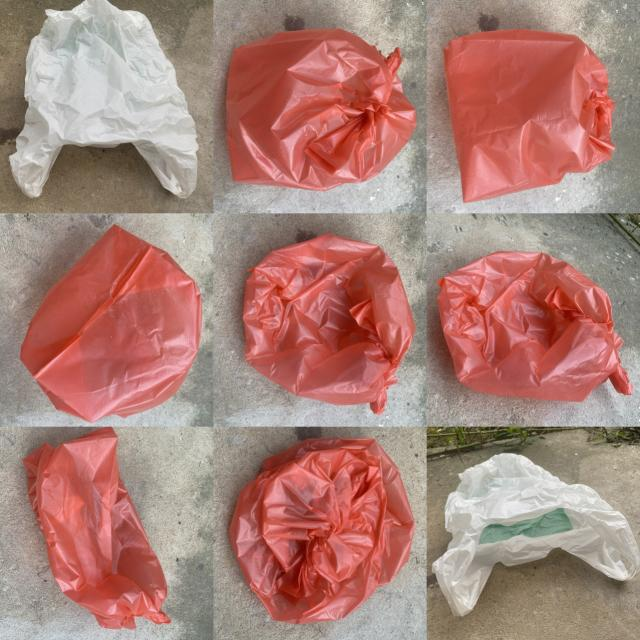Single-layer Plastic: (10, 0, 199, 198), (20, 225, 201, 422), (229, 438, 414, 624), (431, 454, 640, 616), (226, 29, 416, 191), (244, 234, 415, 414), (22, 428, 170, 629), (444, 30, 615, 202), (438, 251, 632, 401)
